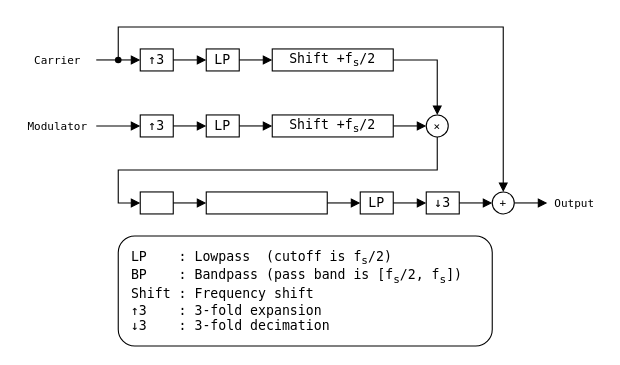
The diagram is 620 pixels wide and 365 high, and some of its shapes have lost their labels. The box of each missing label's shape, as (x1, y1, x2, y2) in pixels:
BP: (139, 191, 173, 214)
Shift -f s /2: (205, 191, 327, 214)
